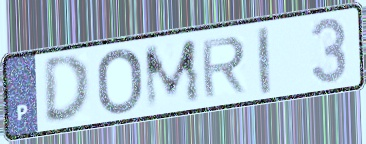3: (308, 15, 350, 89)
D: (41, 52, 93, 126)
I: (254, 23, 274, 97)
M: (141, 35, 204, 113)
O: (94, 46, 144, 118)
R: (199, 34, 248, 101)
